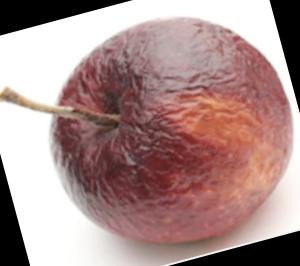Apple: (49, 17, 297, 247)
